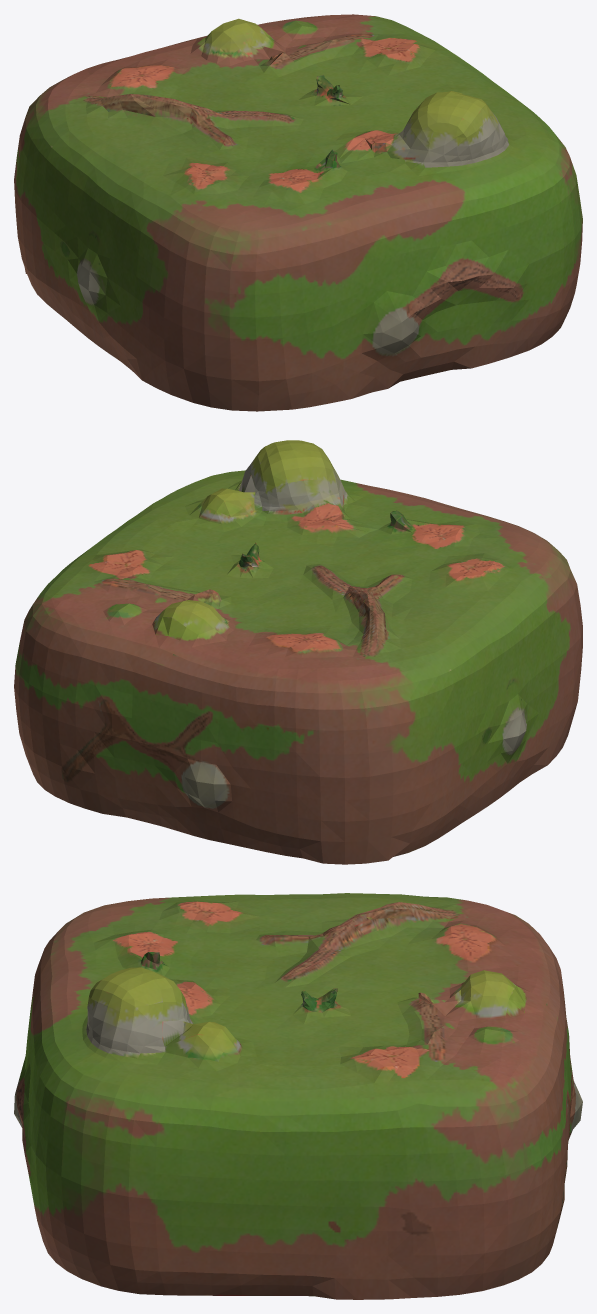
Rendered from Stage_04_Ground_Forest_001.fbx.
3 renders of one model, top to bottom at view 1: azimuth 30°, elevation 25°; view 2: azimuth 150°, elevation 25°; view 3: azimuth 270°, elevation 25°, orthographic. The views are drawn at different scales.
Visible parts, largest first — view 1: Stage_04_Ground_Forest_001; view 2: Stage_04_Ground_Forest_001; view 3: Stage_04_Ground_Forest_001.
Part boxes in pixels (x1,y1,x2,y2): Stage_04_Ground_Forest_001: (14, 14, 582, 411); Stage_04_Ground_Forest_001: (14, 440, 582, 864); Stage_04_Ground_Forest_001: (14, 893, 582, 1299).
Bounding box in the file's own units: 96.3 × 49.77 × 99.45.
